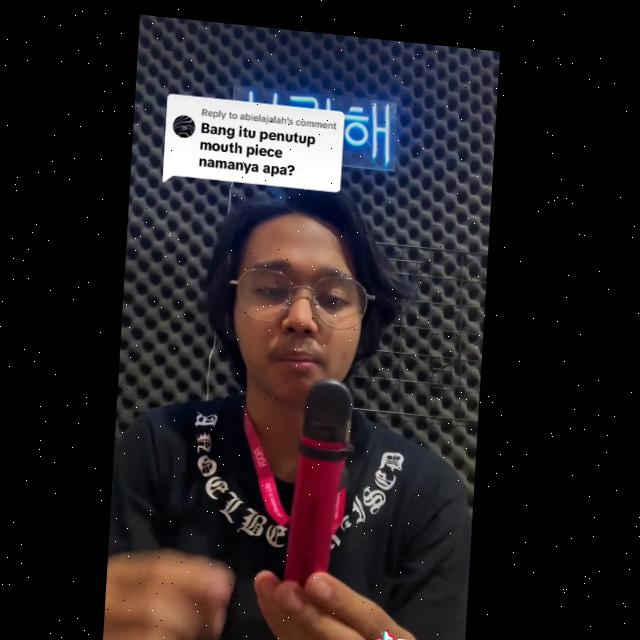vape: (288, 368, 358, 582)
